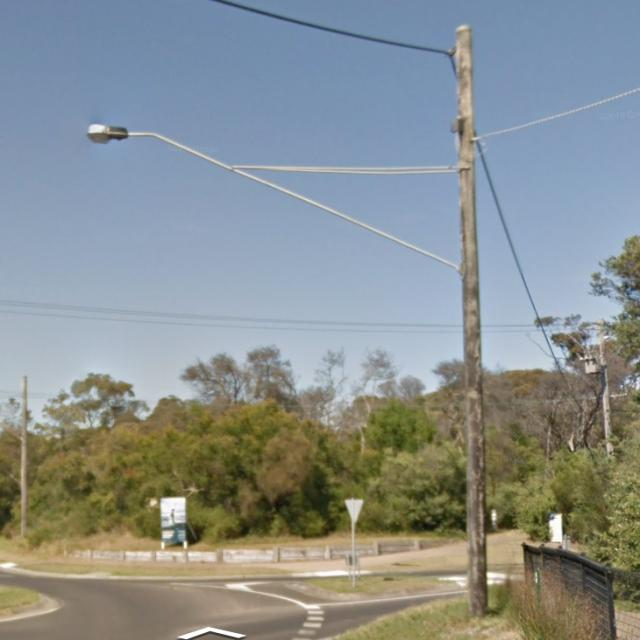streetlight: (87, 123, 464, 273)
timber-pole: (454, 22, 489, 619)
top mount suitable pole: (87, 22, 490, 620)
